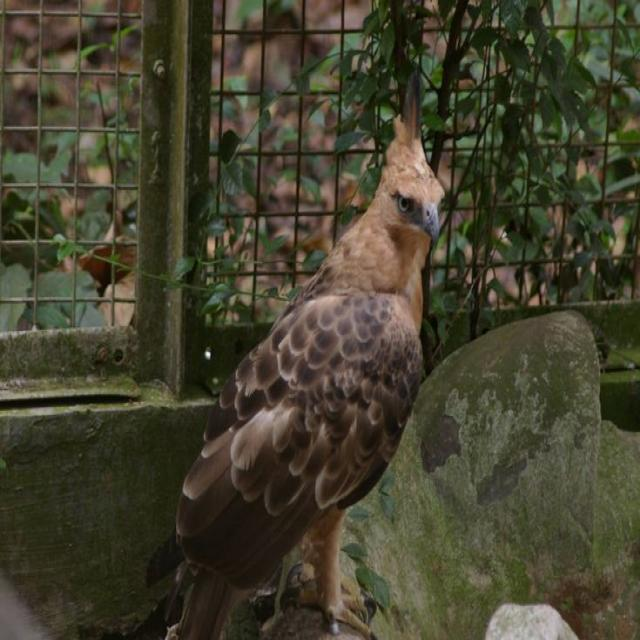Elang Jawa: (122, 48, 457, 640)
